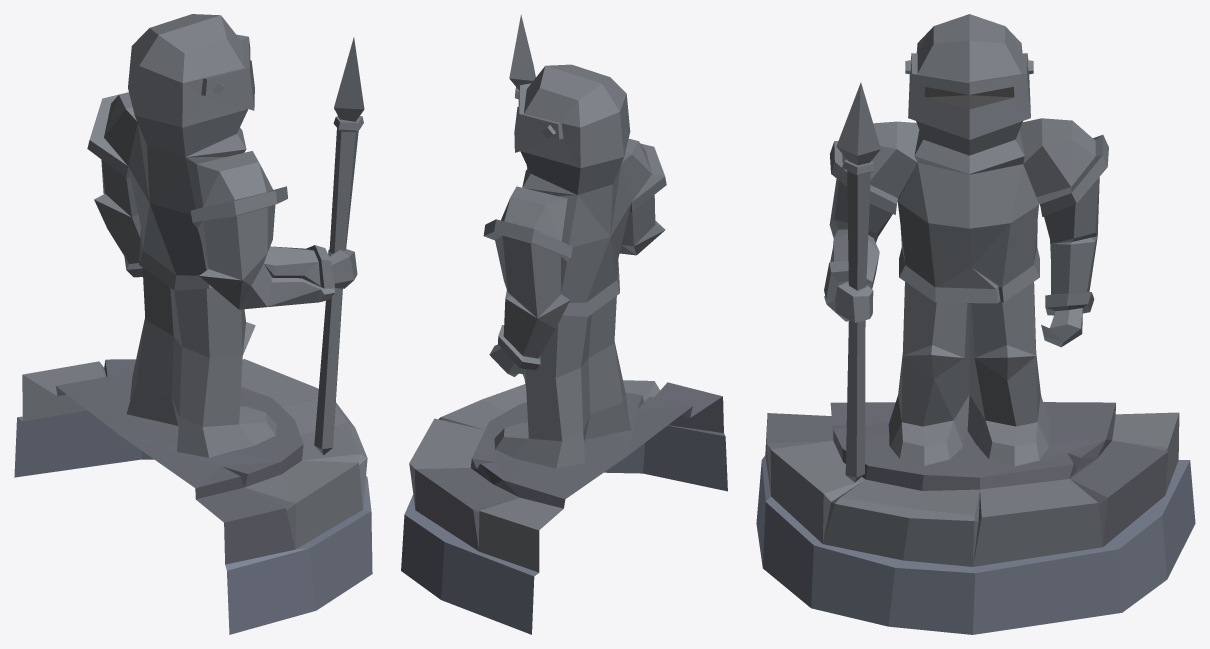
File: Stone_Statue.fbx
3 renders of one model, left to right at view 1: azimuth 30°, elevation 25°; view 2: azimuth 150°, elevation 25°; view 3: azimuth 270°, elevation 25°, orthographic. The views are drawn at different scales.
Visible parts, largest first — view 1: Stone_Statue; view 2: Stone_Statue; view 3: Stone_Statue.
Boxes of the visible parts, <box> form: Stone_Statue: <box>14,14,372,634</box>; Stone_Statue: <box>401,14,727,634</box>; Stone_Statue: <box>756,14,1195,634</box>.
Size of the model in its own units: 33.96 by 75.66 by 56.69.
